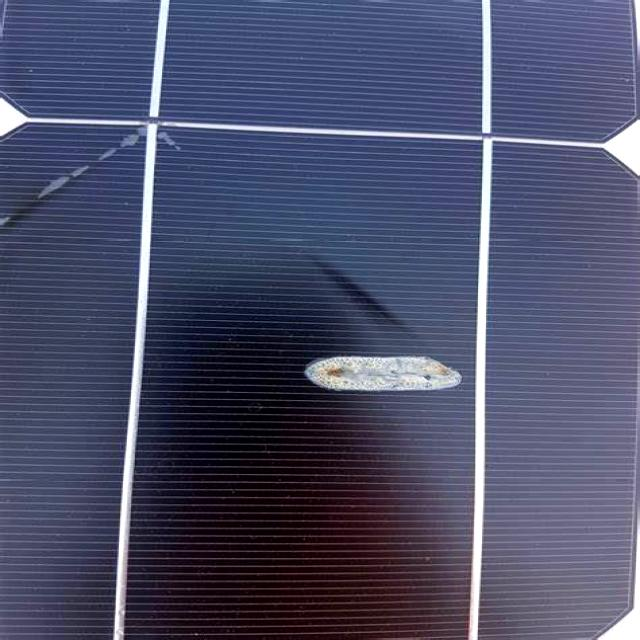shadow: (6, 110, 179, 252), (274, 349, 503, 406)
